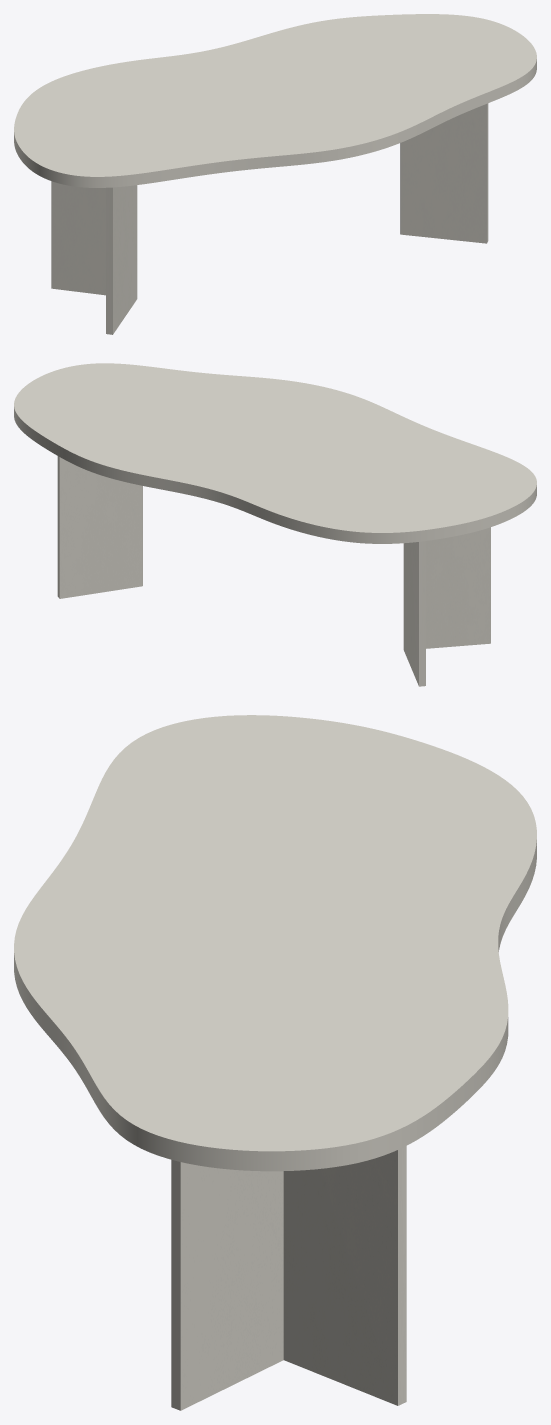
The model's file is pale_toplast_standard_valleyv.glb.
The picture shows the model from 3 angles, top to bottom: view 1: azimuth 30°, elevation 25°; view 2: azimuth 150°, elevation 25°; view 3: azimuth 270°, elevation 25°; orthographic projection. The views are drawn at different scales.
Parts seen in each view (by area): view 1: standard_toplast, valleyv; view 2: standard_toplast, valleyv; view 3: standard_toplast, valleyv.
Part boxes in pixels (x1,y1,x2,y2): standard_toplast: (14,14,536,187); valleyv: (51,103,488,334); standard_toplast: (14,363,536,543); valleyv: (57,456,490,686); standard_toplast: (14,715,536,1171); valleyv: (171,1146,406,1410).
Size of the model in its own units: 7.5 by 2.5 by 3.8.
Materials: 1 (1 with a texture image).
